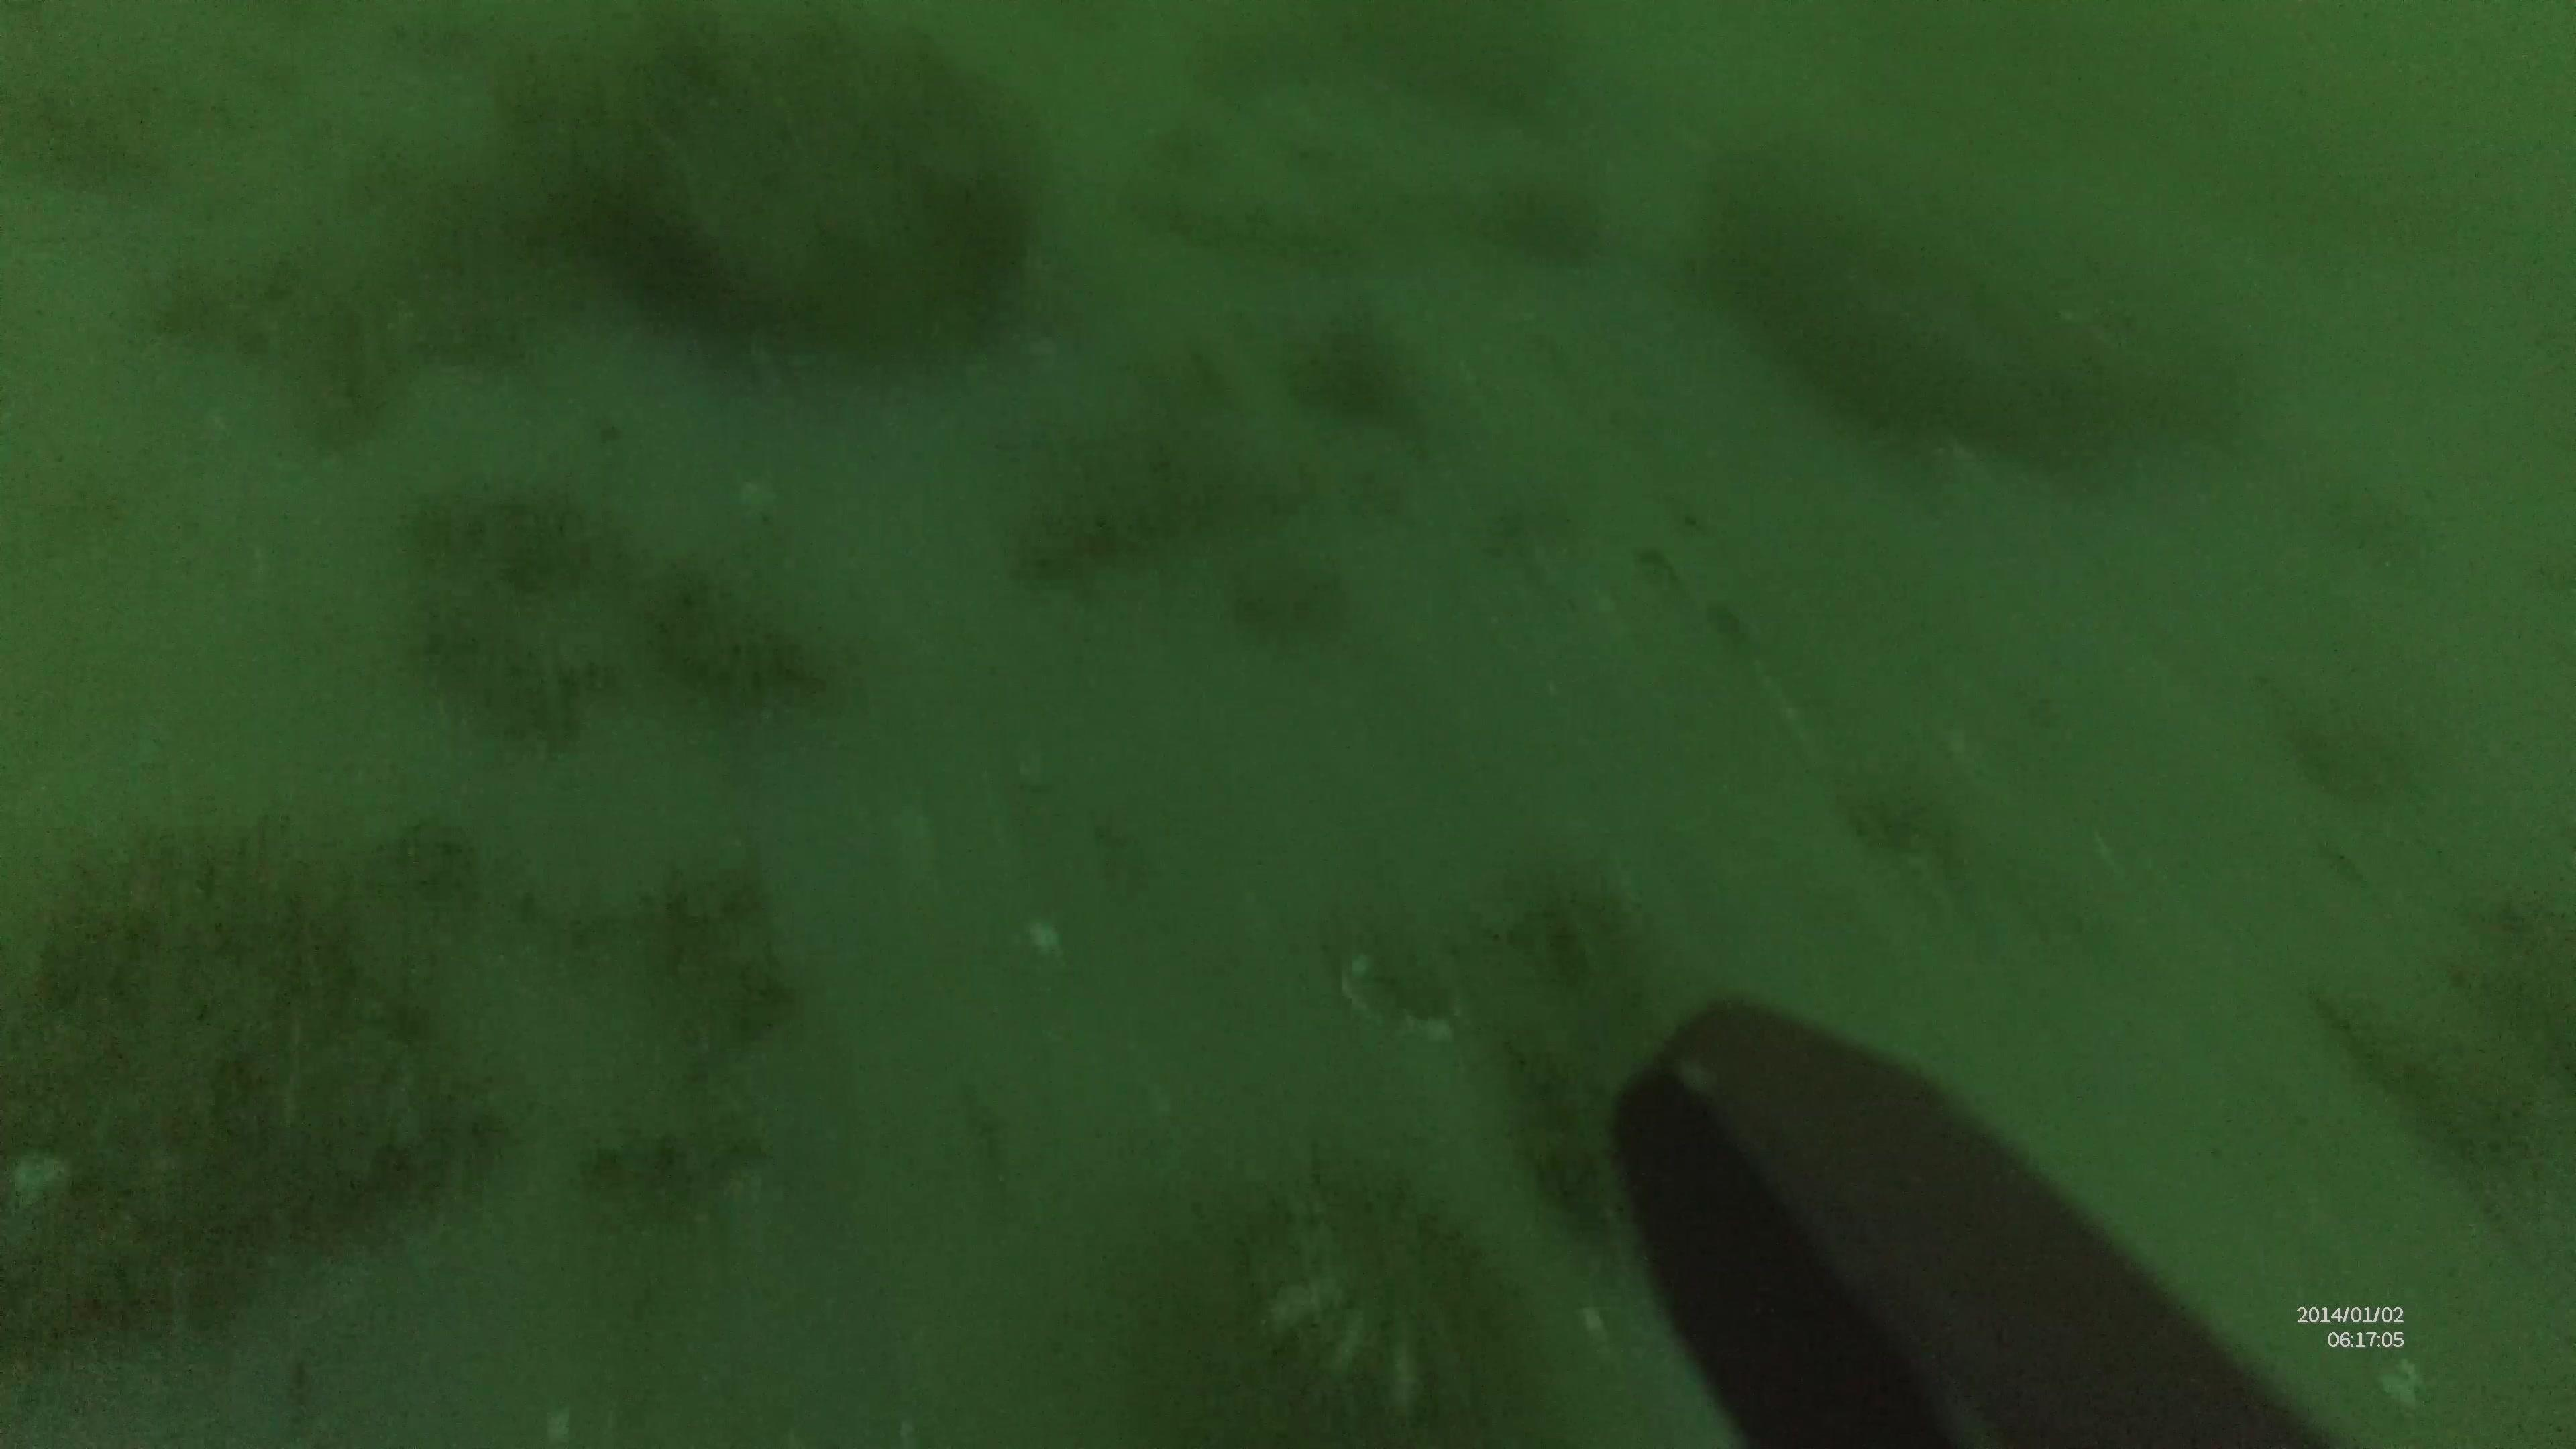echinus: (1247, 1141, 1530, 1424)
